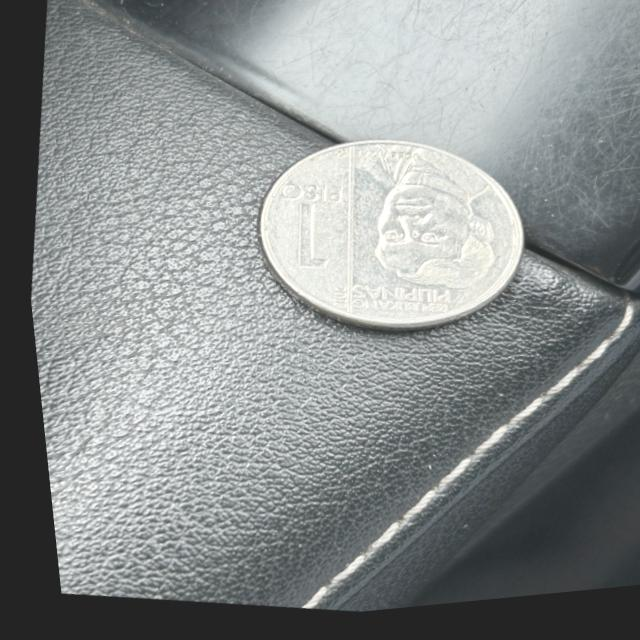1_New_Front: (259, 177, 349, 299)
